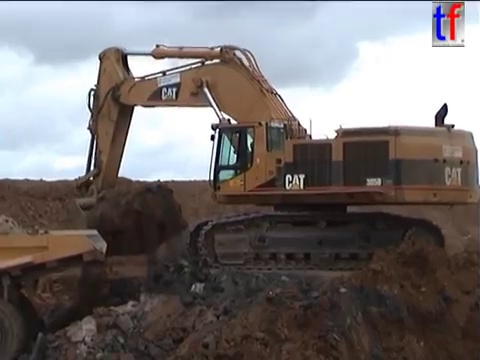excavator: (68, 40, 479, 279)
truck: (1, 225, 109, 360)
